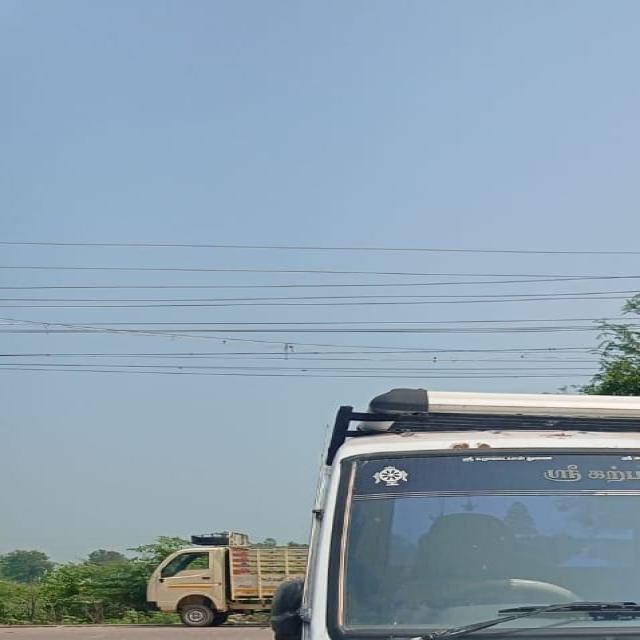car: (289, 375, 640, 640)
